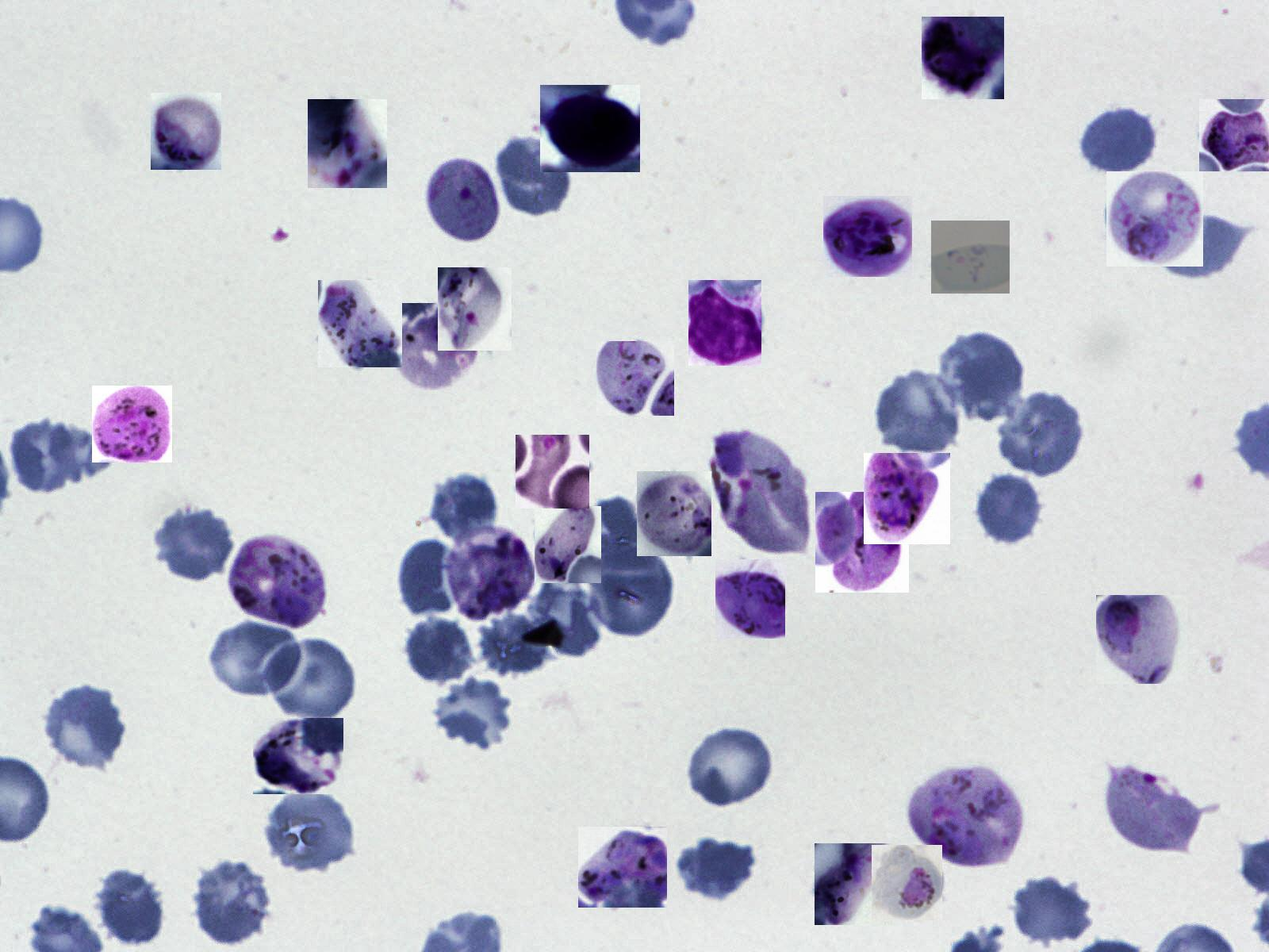Infected: (906, 766, 1022, 870), (712, 429, 807, 551), (815, 492, 909, 593), (1106, 171, 1203, 267), (228, 534, 326, 628), (1102, 762, 1202, 854), (540, 85, 640, 172), (447, 527, 535, 624), (1096, 595, 1187, 684), (864, 453, 950, 544), (318, 280, 402, 367), (395, 303, 478, 390), (578, 827, 667, 908), (823, 196, 912, 277), (308, 99, 387, 188), (424, 157, 502, 245), (253, 718, 343, 794), (922, 17, 1004, 99), (815, 843, 892, 925), (637, 471, 711, 556), (688, 280, 761, 366), (438, 267, 512, 351), (92, 386, 172, 463), (596, 341, 674, 416), (931, 221, 1010, 294), (715, 559, 785, 639), (516, 435, 589, 509), (151, 93, 221, 170), (872, 845, 942, 920), (535, 506, 601, 583), (1199, 99, 1269, 171)
Uninfected: (585, 543, 673, 641), (995, 387, 1087, 478), (265, 635, 358, 724), (42, 679, 129, 772), (262, 790, 357, 875), (872, 370, 964, 456), (940, 329, 1025, 420), (684, 725, 776, 808), (192, 855, 274, 947), (1130, 216, 1251, 278), (210, 619, 303, 697), (496, 133, 572, 221), (423, 678, 513, 752), (9, 416, 95, 492), (153, 505, 235, 583), (1011, 871, 1095, 947), (527, 577, 605, 658), (397, 539, 474, 620), (425, 470, 497, 551), (96, 867, 166, 948), (1082, 106, 1159, 177), (672, 836, 755, 900), (974, 475, 1045, 549), (404, 613, 474, 685), (478, 612, 552, 673)
